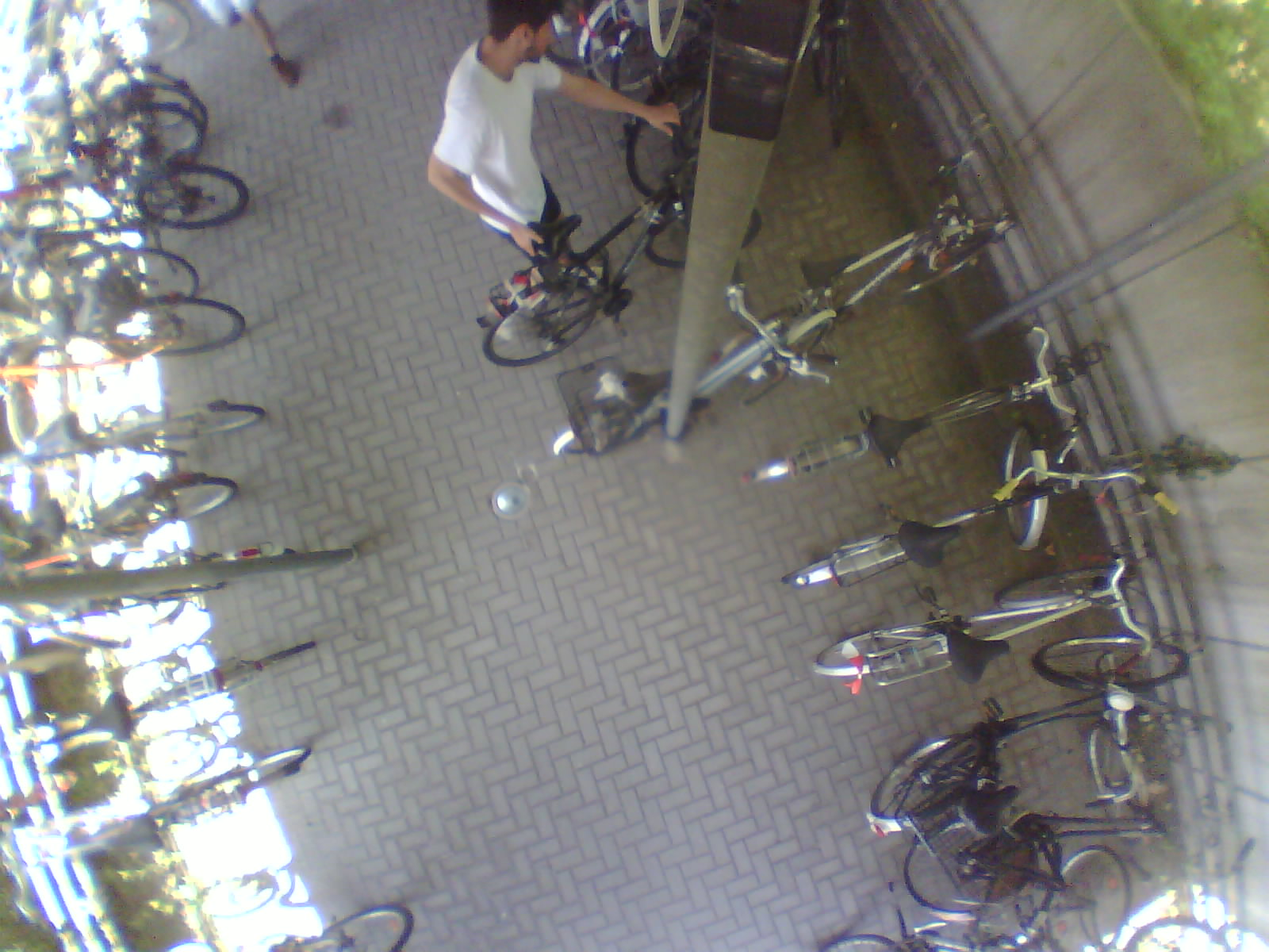bicylce: (863, 635, 1195, 838), (476, 158, 763, 377), (781, 422, 1066, 589), (0, 739, 323, 885), (745, 354, 1078, 495), (551, 301, 841, 461), (0, 628, 334, 762), (756, 212, 1010, 369), (809, 564, 1141, 683), (0, 145, 249, 262), (0, 275, 247, 390), (9, 536, 296, 622), (0, 467, 240, 566), (0, 375, 266, 461), (0, 249, 199, 301)
saddle: (62, 692, 139, 742), (957, 784, 1019, 839), (16, 412, 90, 455), (949, 633, 1008, 682), (899, 520, 963, 565), (523, 212, 582, 258), (98, 815, 166, 853), (866, 418, 931, 454), (6, 502, 59, 544), (26, 119, 89, 152), (0, 221, 44, 267), (799, 254, 858, 287), (625, 365, 671, 407), (36, 307, 75, 344)
